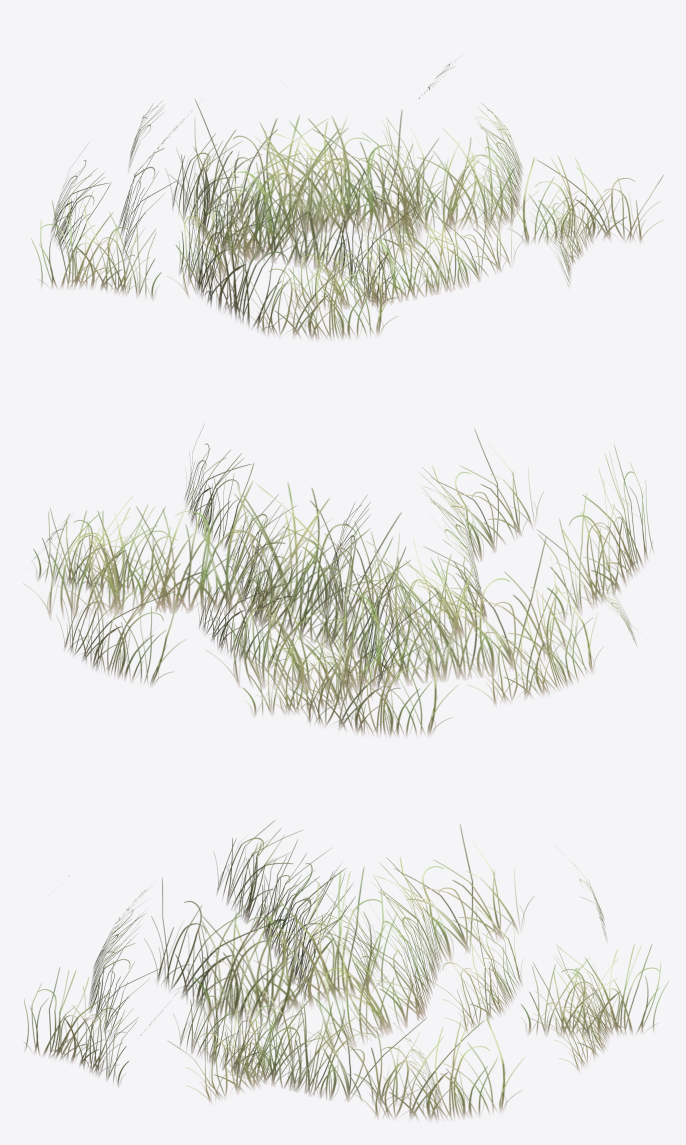
The model's file is grass1.gltf.
3 views of the same model, one above another, from view 1: azimuth 30°, elevation 25°; view 2: azimuth 150°, elevation 25°; view 3: azimuth 270°, elevation 25° (orthographic). The views are drawn at different scales.
Parts seen in each view (by area): view 1: Grass1_LOD0; view 2: Grass1_LOD0; view 3: Grass1_LOD0.
Boxes of the visible parts, <box> form: Grass1_LOD0: <box>31,64,663,339</box>; Grass1_LOD0: <box>23,424,653,736</box>; Grass1_LOD0: <box>24,820,668,1120</box>.
Size of what is drawn, in the model's own units: 84.85 by 16.52 by 80.56.
1 material, 1 textured.
